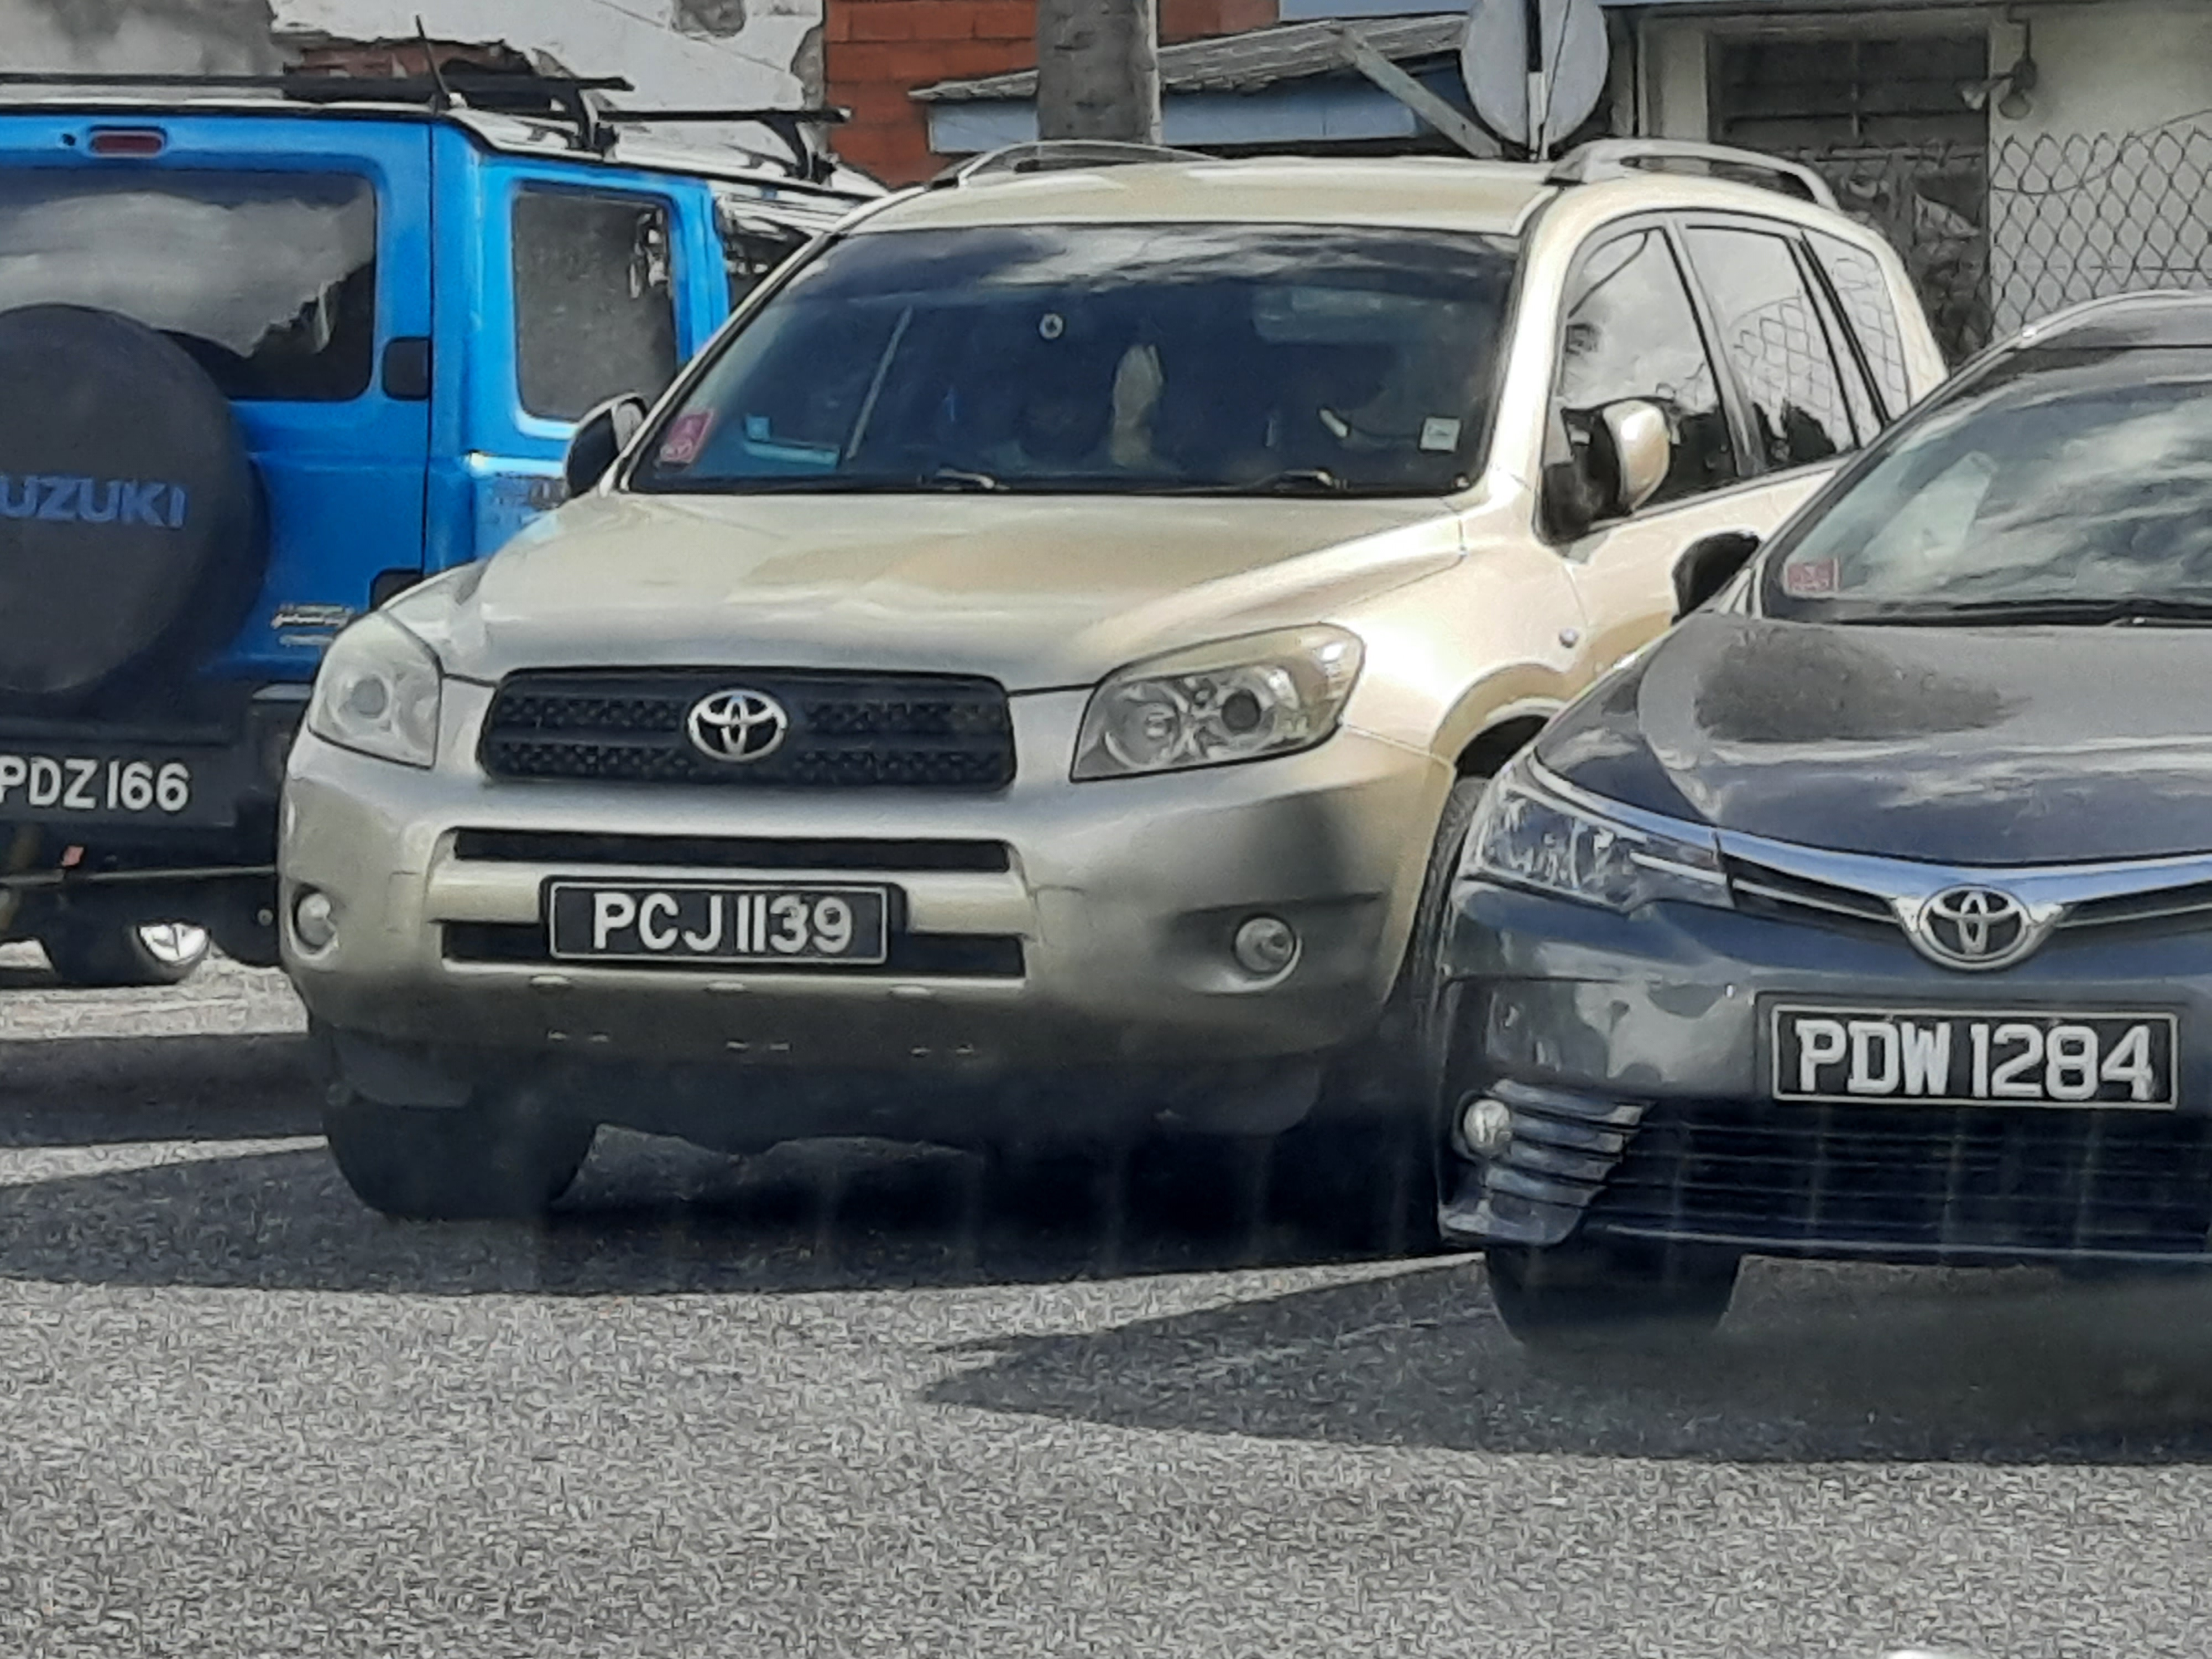License-Plate: (1777, 1004, 2177, 1099), (552, 880, 886, 955)
